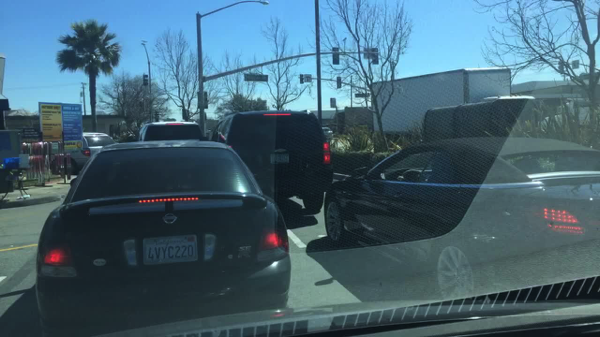car: (35, 138, 290, 332), (323, 137, 599, 302), (209, 110, 332, 212), (42, 132, 114, 173), (138, 119, 203, 142), (320, 125, 331, 136)
traffic light: (331, 47, 339, 65), (557, 59, 565, 74), (142, 74, 149, 88), (372, 47, 377, 66), (336, 75, 341, 89), (154, 112, 159, 121), (299, 73, 303, 84)
traffic sign: (196, 90, 208, 110), (243, 74, 266, 81), (570, 59, 579, 70), (362, 48, 371, 58), (331, 97, 336, 110), (355, 93, 370, 96), (305, 74, 311, 81)
truck: (373, 68, 513, 133)
